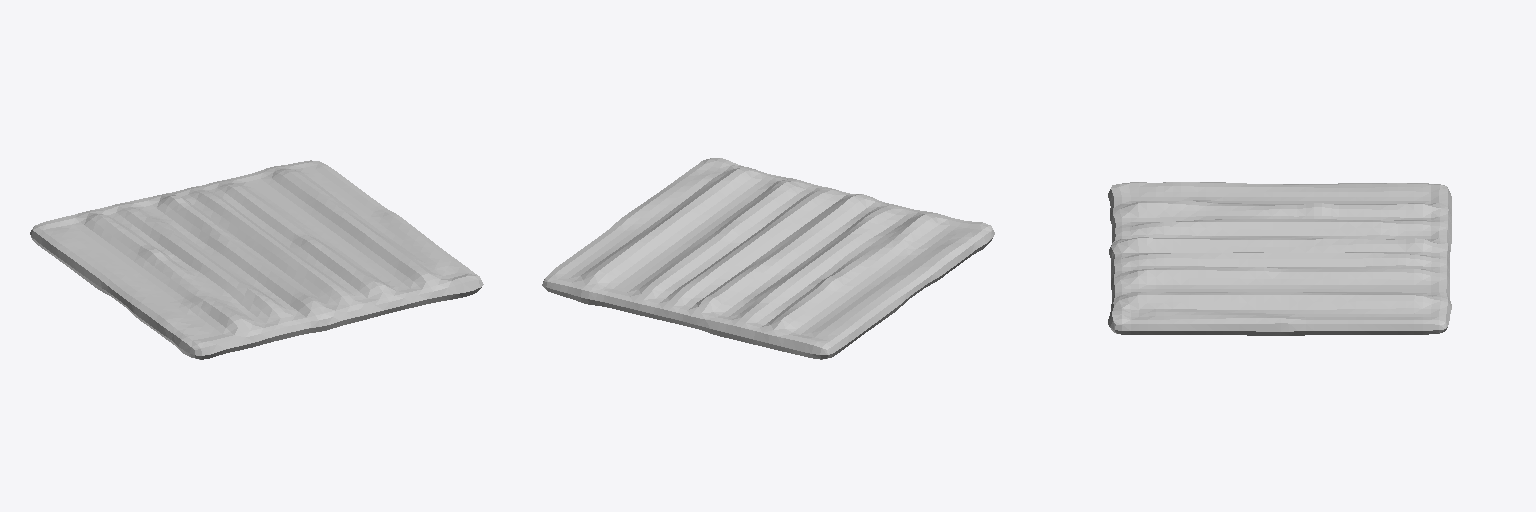
Rendered from Sidewalk.obj.
The picture shows the model from 3 angles: view 1: azimuth 30°, elevation 25°; view 2: azimuth 150°, elevation 25°; view 3: azimuth 270°, elevation 25°; orthographic projection.
Parts seen in each view (by area): view 1: field_1_Mesh; view 2: field_1_Mesh; view 3: field_1_Mesh.
Boxes of the visible parts, x1,y1,x2,y2 form: field_1_Mesh: [30, 160, 483, 359]; field_1_Mesh: [542, 158, 994, 359]; field_1_Mesh: [1108, 182, 1451, 335].
Size of the model in its own units: 5.76 by 0.4189 by 5.81.